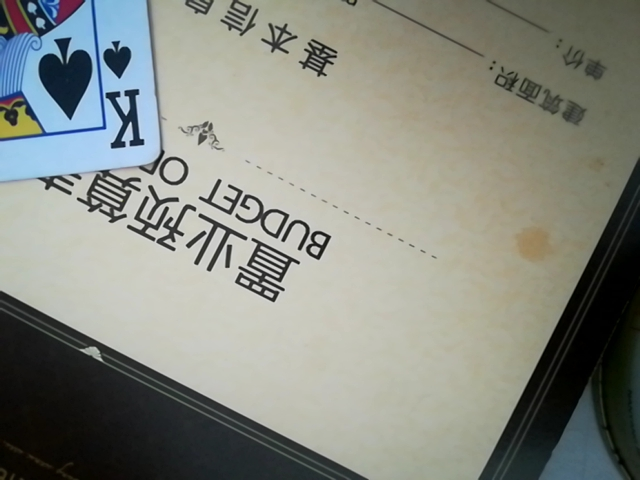ht k: (6, 0, 169, 213)
